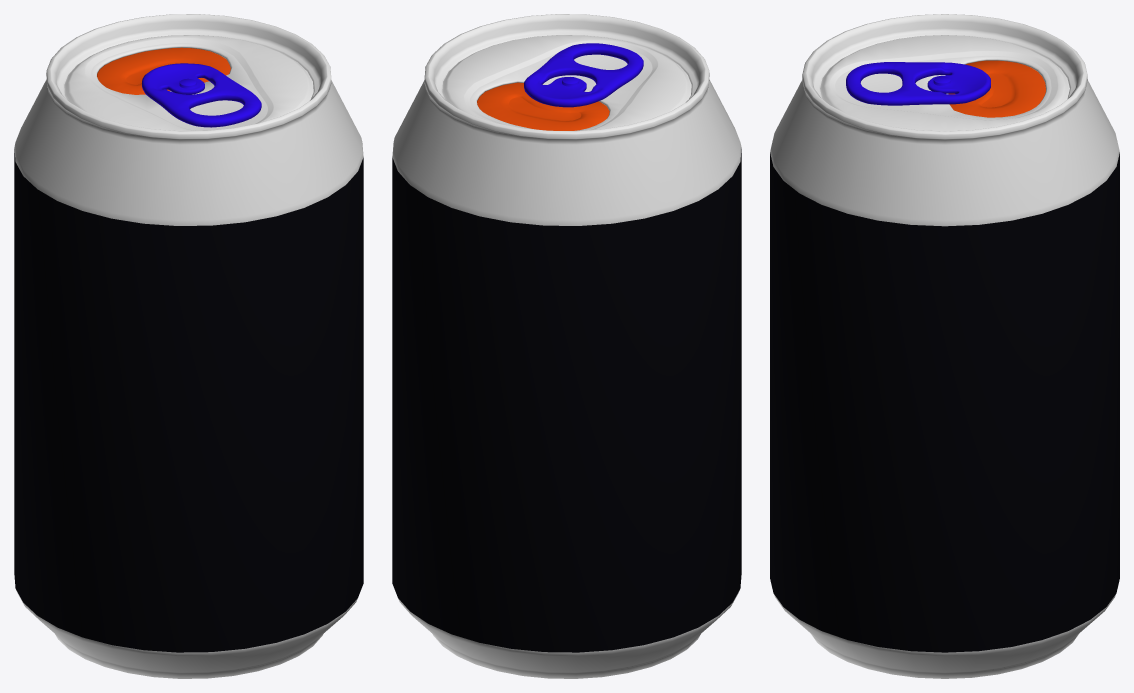
The model's file is can.gltf.
3 views of the same model, side by side, from view 1: azimuth 30°, elevation 25°; view 2: azimuth 150°, elevation 25°; view 3: azimuth 270°, elevation 25° (orthographic).
Parts seen in each view (by area): view 1: Tolkki, Klipsu, Laeppae; view 2: Tolkki, Klipsu, Laeppae; view 3: Tolkki, Klipsu, Laeppae.
Part boxes in pixels (<box>): Tolkki: <box>14,14,363,678</box>; Klipsu: <box>142,63,261,127</box>; Laeppae: <box>97,47,230,94</box>; Tolkki: <box>392,14,741,678</box>; Klipsu: <box>524,43,643,107</box>; Laeppae: <box>477,82,609,130</box>; Tolkki: <box>770,14,1119,678</box>; Klipsu: <box>846,62,990,105</box>; Laeppae: <box>949,60,1045,117</box>.
Bounding box in the file's own units: 0.6611 × 1.14 × 0.6611.
